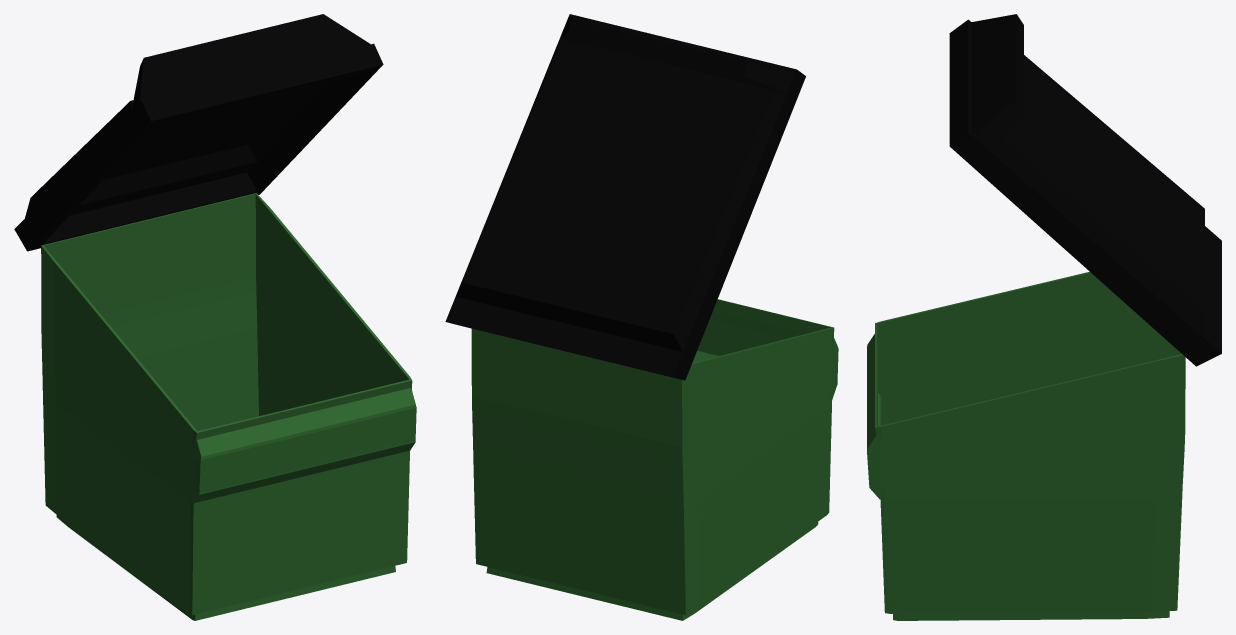
Rendered from trashcan_small.fbx.
3 views of the same model, side by side, from view 1: azimuth 30°, elevation 25°; view 2: azimuth 150°, elevation 25°; view 3: azimuth 270°, elevation 25° (orthographic). The views are drawn at different scales.
Visible parts, largest first — view 1: Cube, Cube.001; view 2: Cube, Cube.001; view 3: Cube, Cube.001.
Part boxes in pixels (x1,y1,x2,y2): Cube: (41,193,416,620); Cube.001: (14,14,383,251); Cube: (471,299,838,620); Cube.001: (445,14,805,380); Cube: (867,271,1185,620); Cube.001: (949,14,1221,366).
Bounding box in the file's own units: 261 × 553 × 346.
